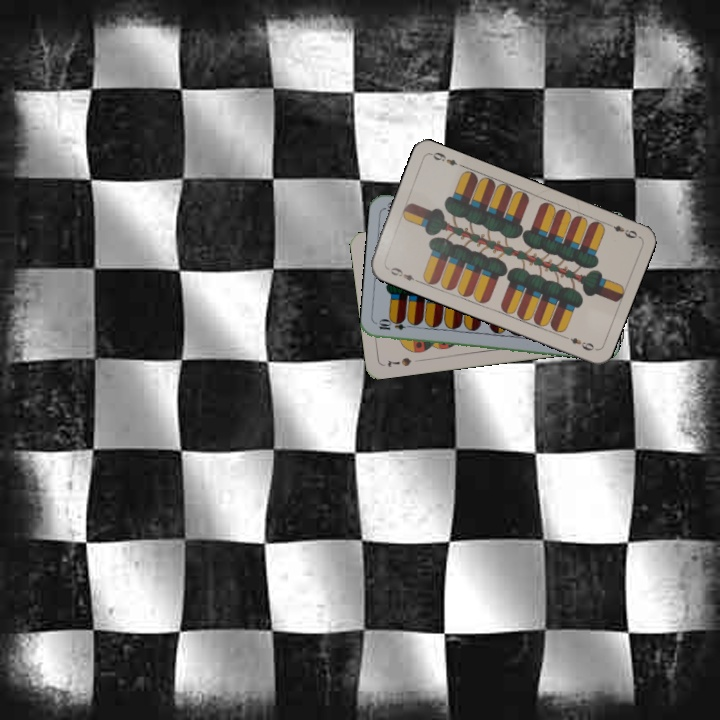E10: (375, 318, 415, 333)
E9: (382, 263, 421, 285), (602, 219, 640, 241)
S7: (383, 353, 414, 370)
